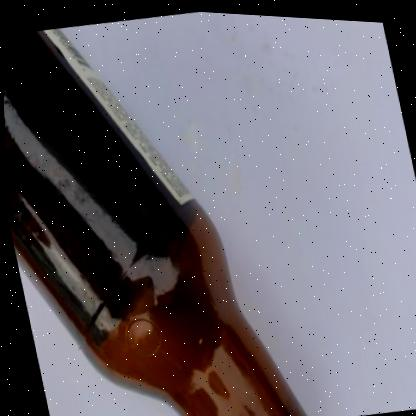Glass: (1, 28, 302, 416)
